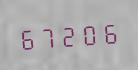seven: (38, 22, 57, 50)
six: (18, 23, 37, 52), (98, 17, 117, 46)
two: (58, 20, 77, 49)
zero: (78, 19, 97, 47)
